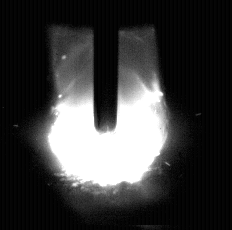arame: (94, 0, 119, 133)
poca: (47, 0, 168, 230)
